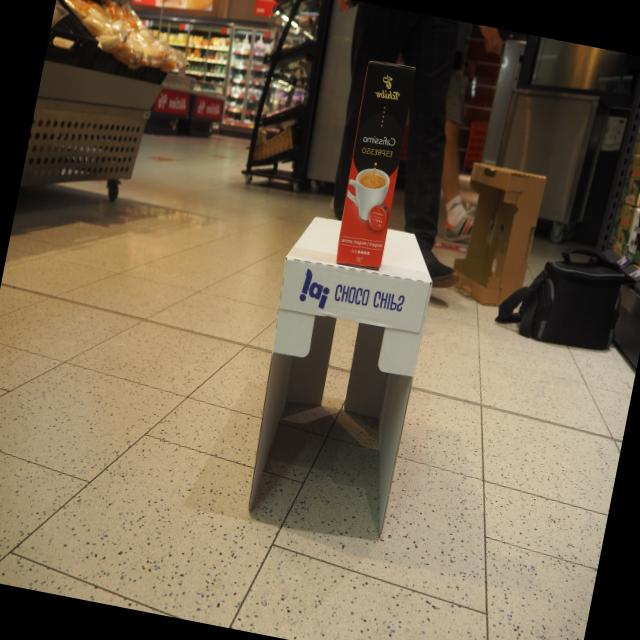Simo Es Elegant: (333, 59, 419, 274)
